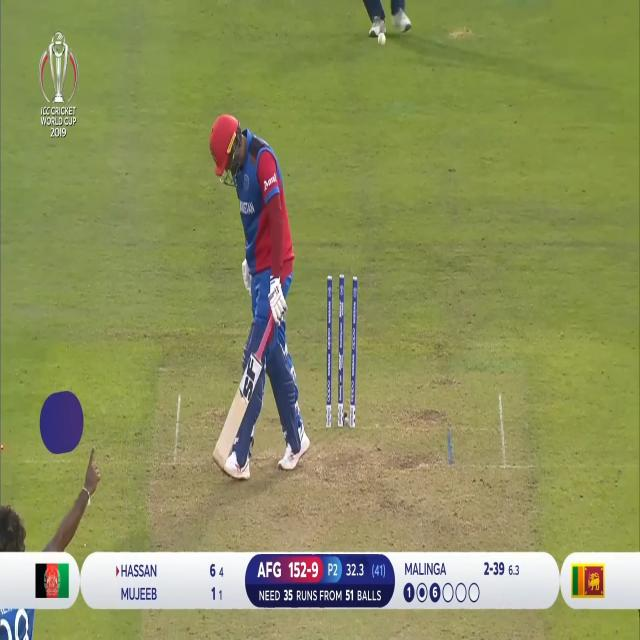ball: (375, 28, 387, 51)
